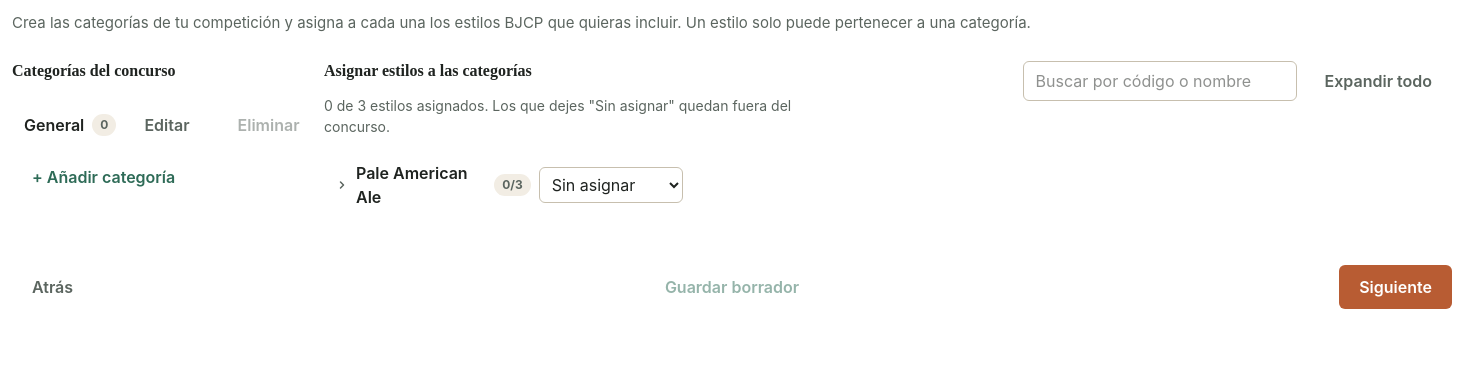
Test: CategoriesStepComponent › expands and collapses a single group from its header toggle
Click the button with class "style-group__toggle" at (433, 184), box 336,160 -> 531,208
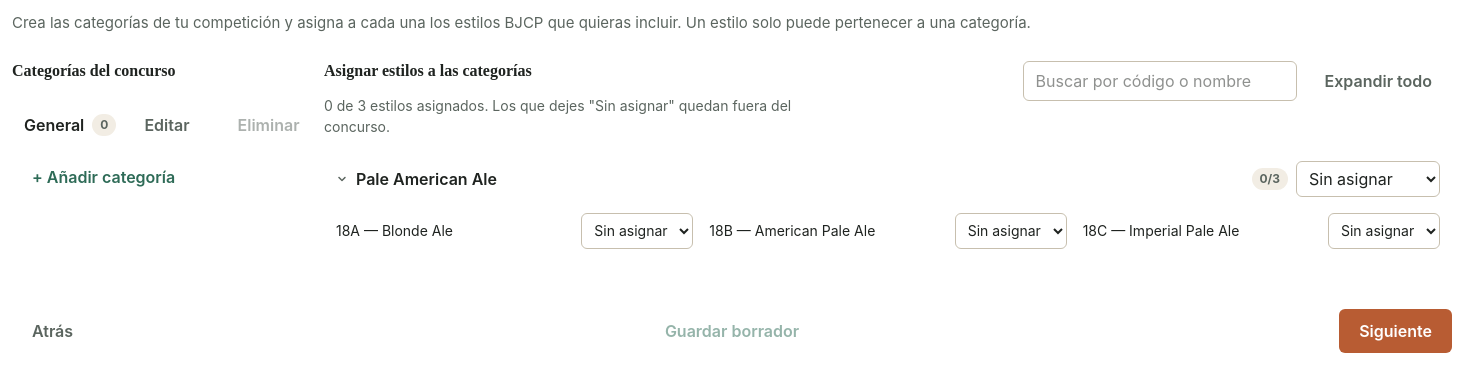
Expected: the button with class "style-group__toggle" is expanded
Click the button with class "style-group__toggle" at (426, 178), box 336,160 -> 1288,196
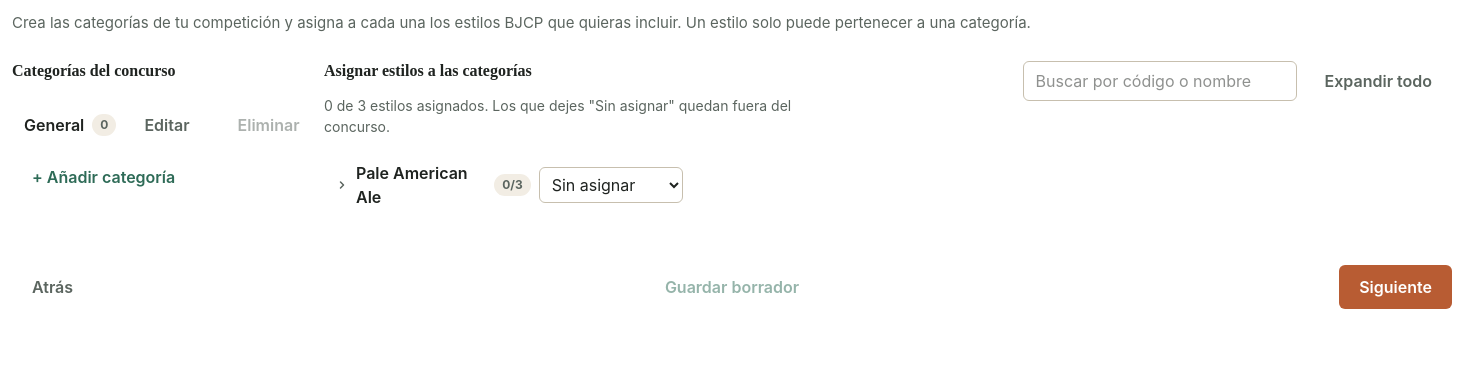
Expected: the button with class "style-group__toggle" is collapsed, 336,160 -> 531,208
